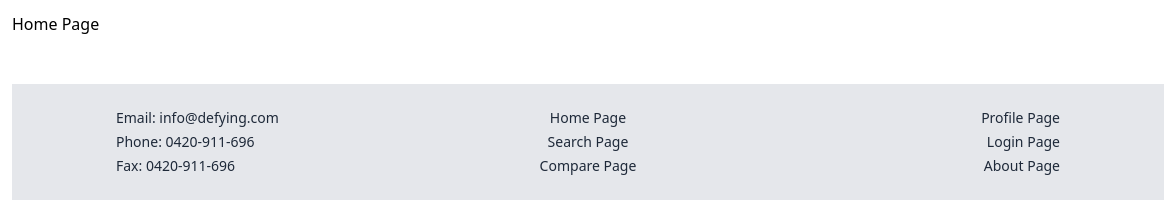
it: Footer Component - Integration Tests › navigates to Search Page when 'Search Page' link is clicked
Step 1. Click the link "Search Page" → [588, 142], box top-left (548, 132), bottom-right (628, 152)
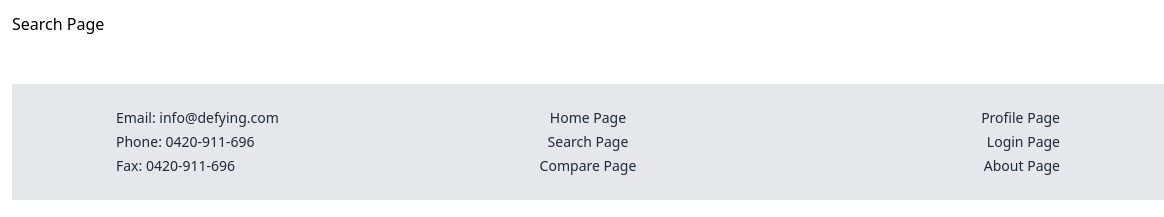
Expected: the heading "Search Page" is shown, top-left (12, 13), bottom-right (104, 35)
